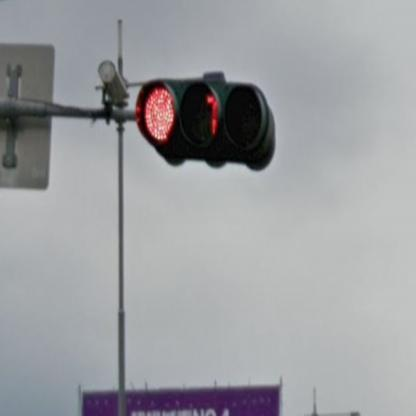Red Light: (134, 77, 275, 166)
